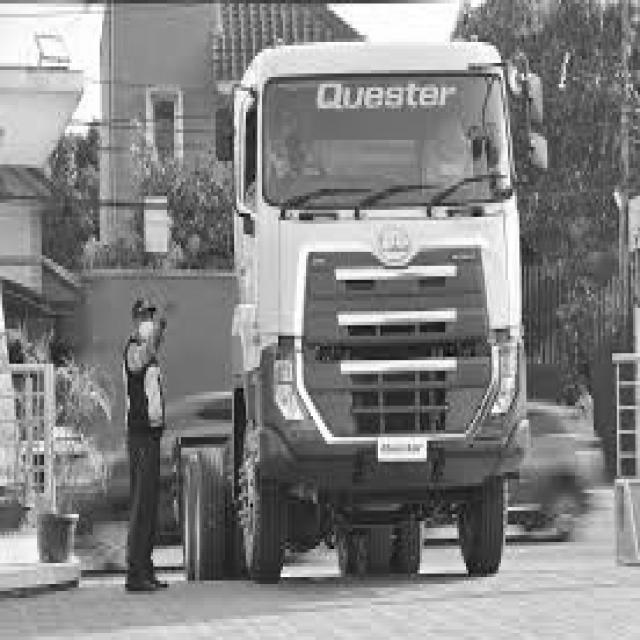truck: (220, 21, 548, 509)
